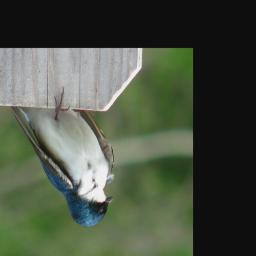Swallow: (8, 86, 116, 229)
